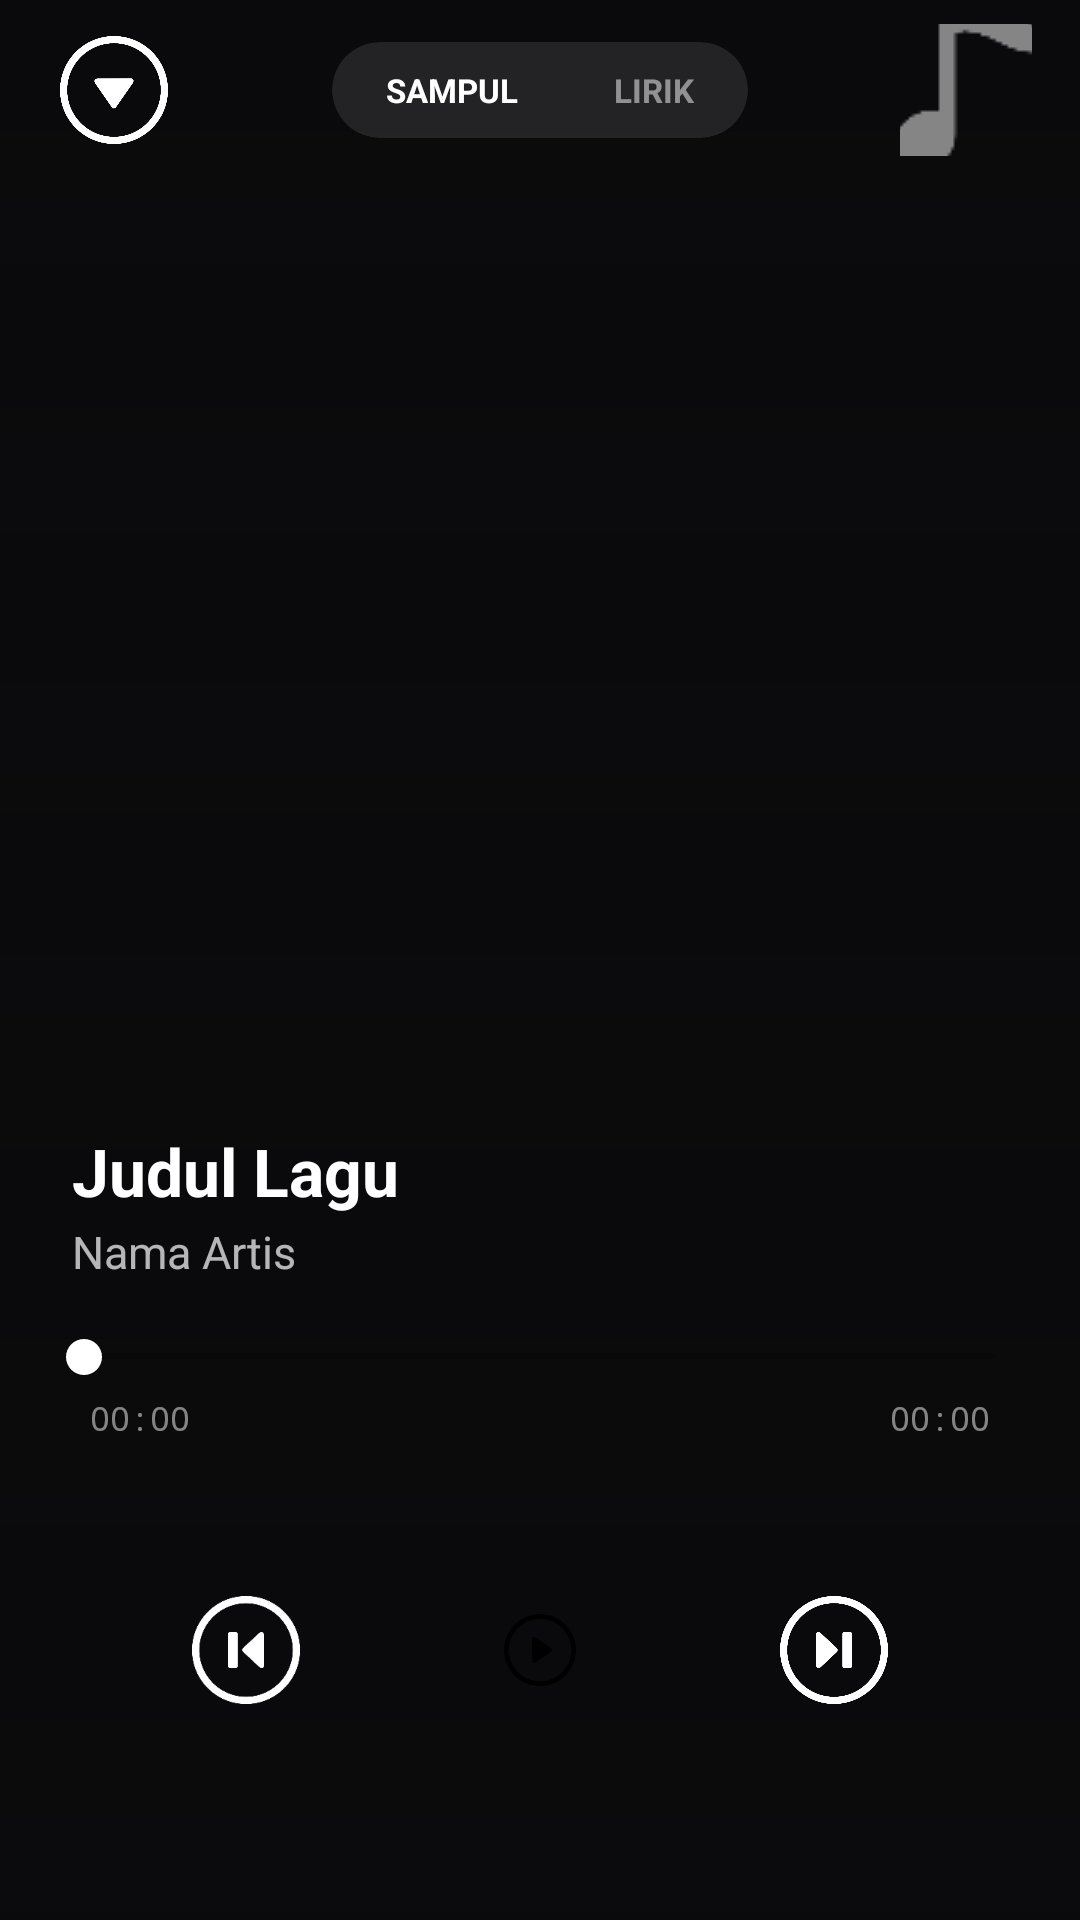

Point at icon controls on the screen. Image size 1080 x 1920, points as (x=x, y=y).
next: (x=834, y=1650)
prev: (x=246, y=1650)
